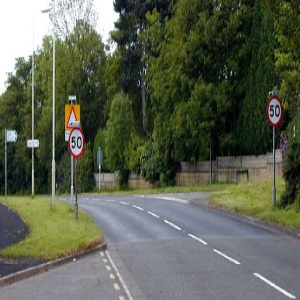50 speed: (68, 127, 86, 159), (266, 97, 283, 127)
